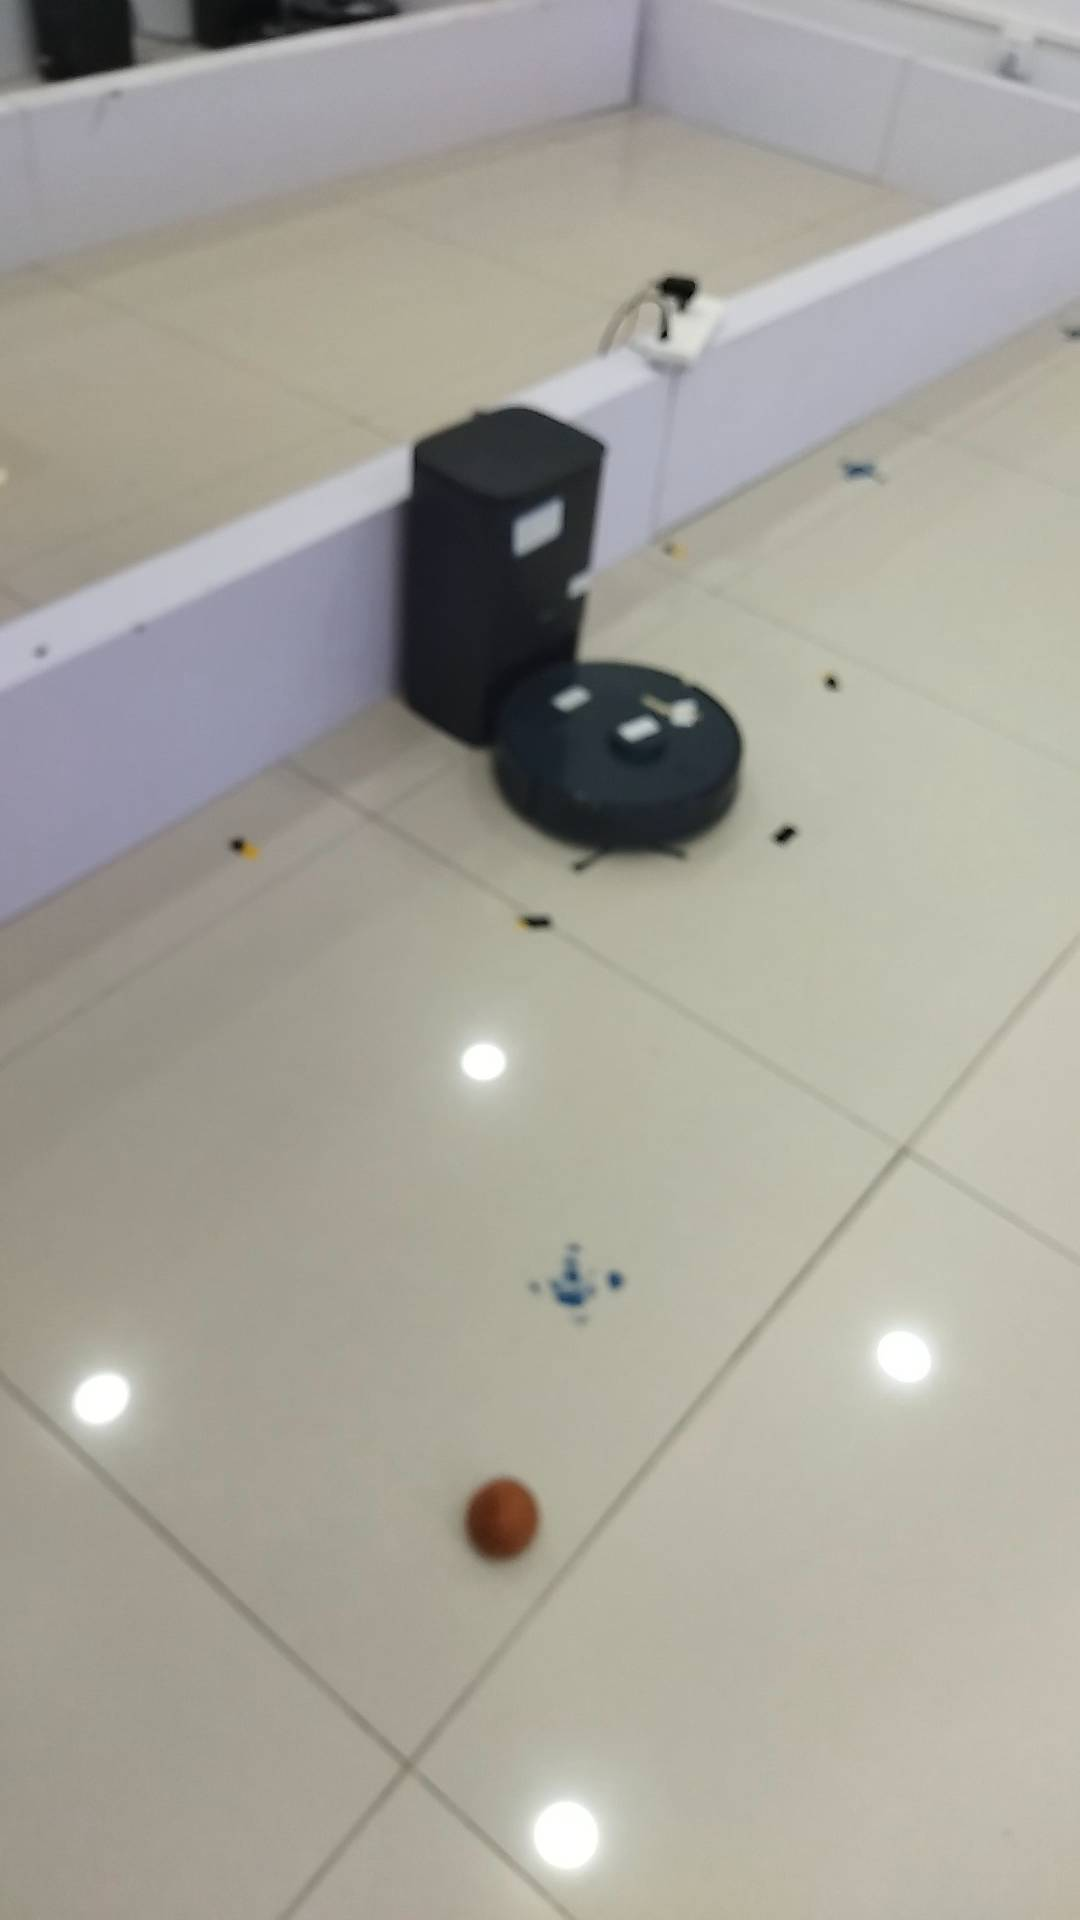dust collecting barrel: (404, 406, 611, 748)
